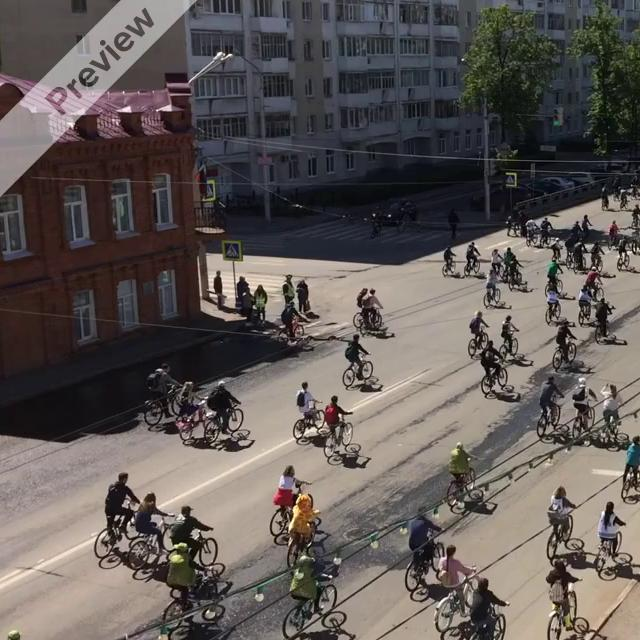bicycle: (161, 576, 233, 638), (282, 579, 346, 639), (433, 567, 478, 634), (127, 514, 177, 569), (93, 500, 139, 558), (546, 578, 589, 639), (440, 601, 509, 639), (404, 540, 445, 601), (269, 480, 312, 536), (593, 529, 633, 580), (444, 466, 484, 513), (286, 516, 321, 569), (546, 513, 584, 561), (203, 403, 248, 443), (143, 384, 185, 426), (176, 398, 216, 442), (323, 419, 361, 461), (292, 400, 325, 439), (536, 398, 564, 439), (598, 416, 629, 450), (480, 359, 508, 395), (571, 401, 596, 441), (342, 357, 373, 388), (360, 302, 384, 337), (552, 339, 577, 371), (276, 315, 304, 341), (593, 310, 614, 343), (467, 328, 488, 358), (499, 331, 518, 360), (462, 255, 481, 278), (545, 298, 561, 325), (483, 285, 501, 308), (544, 276, 563, 296), (587, 280, 604, 301), (578, 301, 592, 326), (507, 269, 523, 290), (442, 256, 457, 277), (616, 250, 630, 271)
